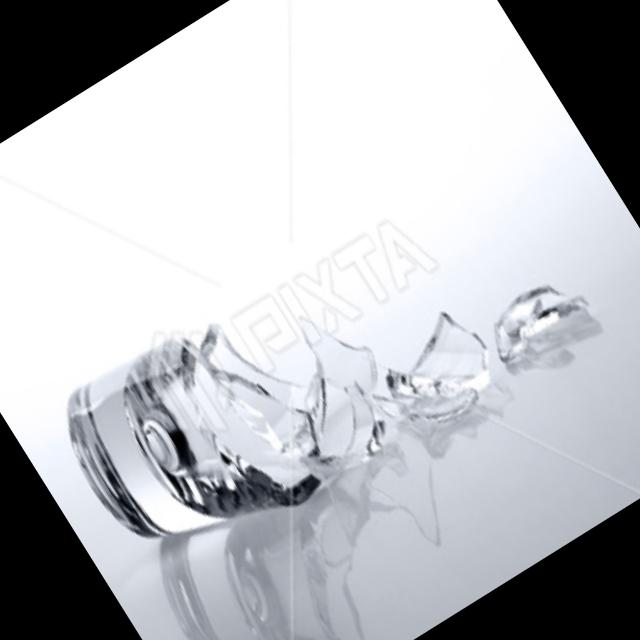PecahanKaca: (38, 129, 606, 606), (474, 262, 604, 382)
